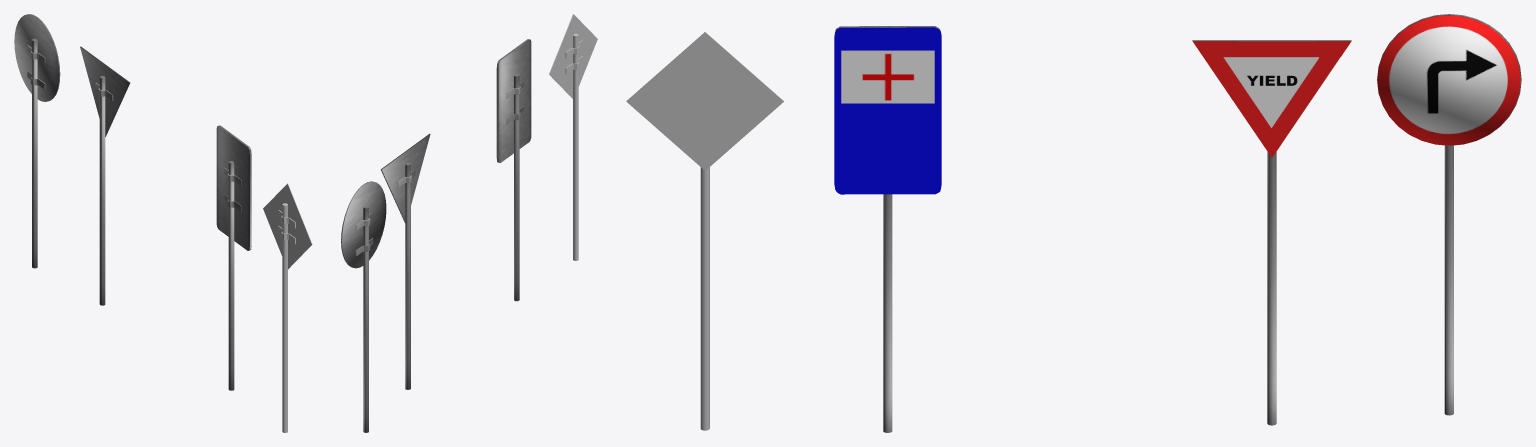
The model's file is road_signs_2.obj.
3 views of the same model, side by side, from view 1: azimuth 30°, elevation 25°; view 2: azimuth 150°, elevation 25°; view 3: azimuth 270°, elevation 25° (orthographic). The views are drawn at different scales.
Visible parts, largest first — view 1: Cylinder.002_Cylinder.009, Cylinder, Cylinder.003_Cylinder.011, Cylinder.001_Cylinder.002; view 2: Cylinder.002_Cylinder.009, Cylinder, Cylinder.003_Cylinder.011, Cylinder.001_Cylinder.002; view 3: Cylinder.002_Cylinder.009, Cylinder, Cylinder.003_Cylinder.011, Cylinder.001_Cylinder.002.
Part boxes in pixels (left/top/right/bottom): Cylinder.002_Cylinder.009: left=216, top=125, right=251, bottom=390; Cylinder: left=14, top=14, right=60, bottom=268; Cylinder.003_Cylinder.011: left=263, top=183, right=312, bottom=432; Cylinder.001_Cylinder.002: left=80, top=46, right=130, bottom=305; Cylinder.002_Cylinder.009: left=496, top=39, right=531, bottom=301; Cylinder: left=341, top=181, right=386, bottom=432; Cylinder.003_Cylinder.011: left=549, top=14, right=597, bottom=260; Cylinder.001_Cylinder.002: left=380, top=133, right=430, bottom=389; Cylinder.002_Cylinder.009: left=834, top=26, right=941, bottom=432; Cylinder: left=1377, top=14, right=1521, bottom=415; Cylinder.003_Cylinder.011: left=626, top=32, right=783, bottom=430; Cylinder.001_Cylinder.002: left=1192, top=40, right=1351, bottom=425.
Size of the model in its own units: 0.582 by 4.87 by 9.72.
